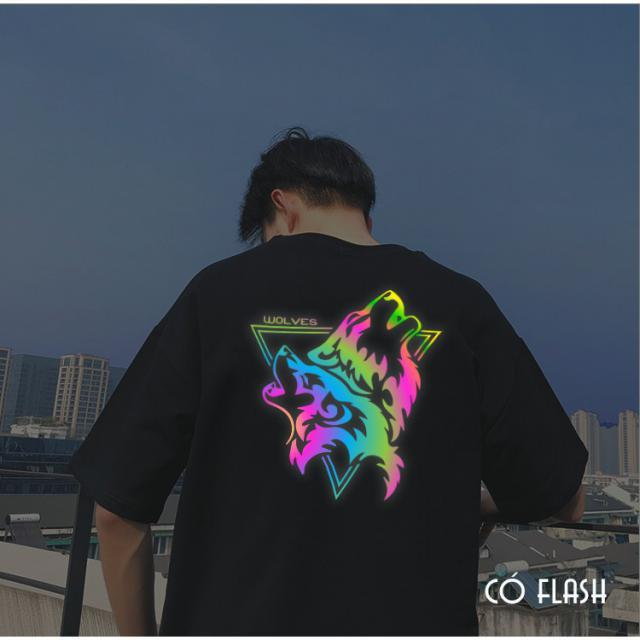Shirt: (69, 232, 594, 638)
